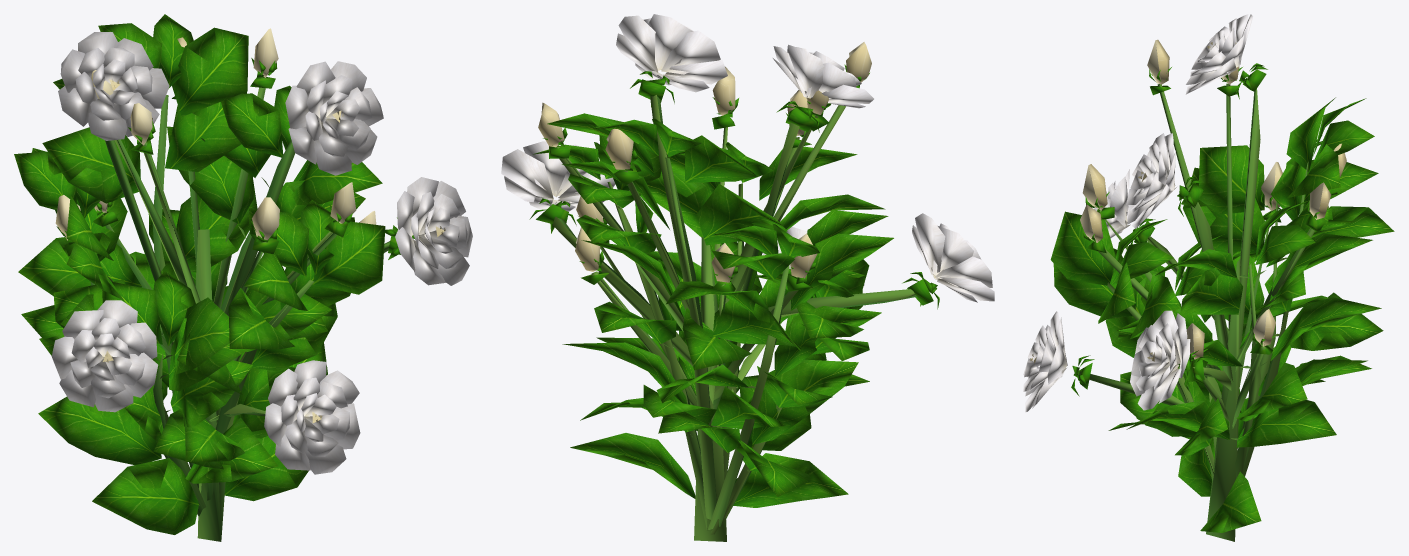
Rendered from NP_Jasmine_Ready_LOD1.fbx.
3 renders of one model, left to right at view 1: azimuth 30°, elevation 25°; view 2: azimuth 150°, elevation 25°; view 3: azimuth 270°, elevation 25°, orthographic. The views are drawn at different scales.
Parts seen in each view (by area): view 1: NP_Jasmine_Ready; view 2: NP_Jasmine_Ready; view 3: NP_Jasmine_Ready.
Boxes of the visible parts, x1,y1,x2,y2 form: NP_Jasmine_Ready: (14,14,472,541); NP_Jasmine_Ready: (501,14,994,541); NP_Jasmine_Ready: (1023,14,1394,541).
Size of the model in its own units: 61.54 by 67.89 by 48.19.
